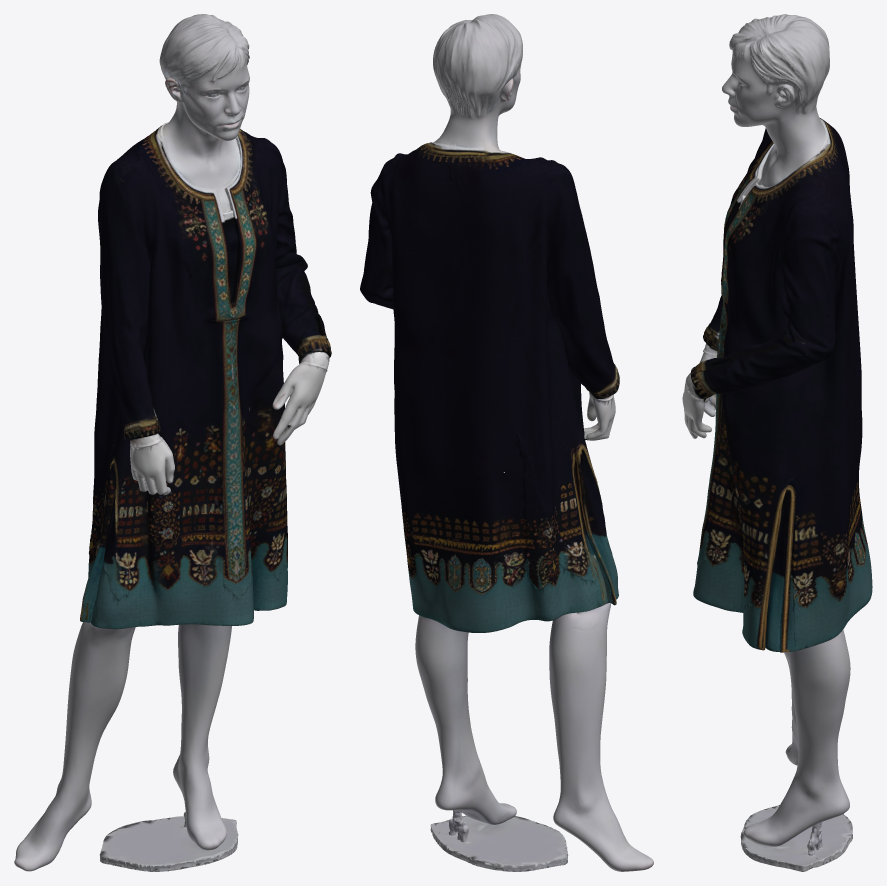
The picture shows the model from 3 angles, left to right: view 1: azimuth 30°, elevation 25°; view 2: azimuth 150°, elevation 25°; view 3: azimuth 270°, elevation 25°; orthographic projection. The views are drawn at different scales.
Parts seen in each view (by area): view 1: tripo_node_d43da07b-cbb2-45f8-ac6e-7bc01b16e8e2; view 2: tripo_node_d43da07b-cbb2-45f8-ac6e-7bc01b16e8e2; view 3: tripo_node_d43da07b-cbb2-45f8-ac6e-7bc01b16e8e2.
Part boxes in pixels (x1,y1,x2,y2): tripo_node_d43da07b-cbb2-45f8-ac6e-7bc01b16e8e2: (14,14,331,871); tripo_node_d43da07b-cbb2-45f8-ac6e-7bc01b16e8e2: (360,14,653,871); tripo_node_d43da07b-cbb2-45f8-ac6e-7bc01b16e8e2: (682,14,872,871).
Bounding box in the file's own units: 0.3603 × 0.982 × 0.2019.
1 material, 1 textured.
